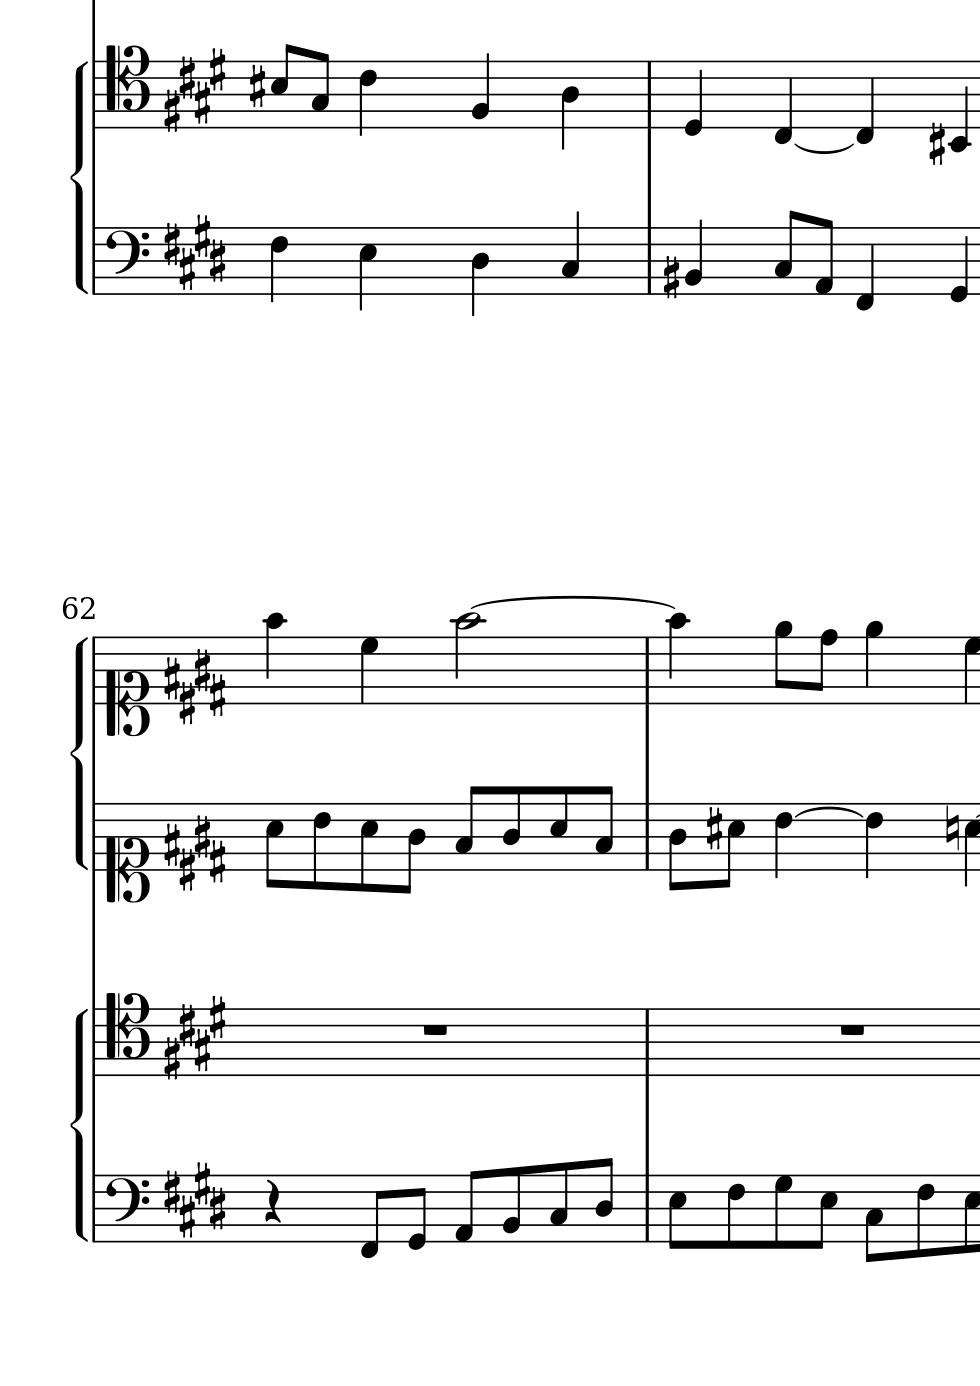2_10: (452, 609, 480, 706)
4_-1: (851, 58, 875, 146), (770, 58, 793, 146), (855, 225, 876, 312)
4_-2: (946, 59, 970, 152)
4_0: (682, 58, 706, 137), (946, 225, 969, 304)
4_10: (262, 612, 286, 706), (666, 612, 689, 705)
4_2: (470, 50, 492, 129), (684, 217, 704, 296)
4_3: (560, 209, 581, 294)
4_4: (559, 59, 581, 150), (469, 226, 490, 318)
4_5: (356, 226, 378, 314)
4_6: (267, 226, 290, 308), (863, 800, 886, 881), (356, 58, 379, 138), (772, 801, 794, 879)
4_7: (357, 634, 380, 705)
4_9: (863, 619, 883, 705)
6: (78, 594, 97, 622), (62, 594, 78, 621)
8_-1: (358, 1172, 386, 1259)
8_0: (406, 1173, 428, 1252)
8_1: (453, 1168, 480, 1245), (813, 215, 834, 297)
8_2: (500, 1165, 522, 1245)
8_3: (453, 784, 482, 873), (773, 208, 800, 295), (593, 784, 615, 872), (309, 49, 332, 129), (863, 1173, 883, 1264), (548, 1160, 570, 1245)
8_4: (399, 801, 427, 896), (665, 800, 688, 893), (500, 784, 523, 873), (595, 1156, 617, 1245)
8_5: (718, 801, 746, 889), (268, 42, 295, 130), (811, 1173, 838, 1251), (357, 801, 379, 894), (547, 784, 570, 872), (263, 800, 284, 890), (666, 1172, 688, 1253), (962, 1173, 980, 1255)
8_6: (912, 1173, 934, 1260), (310, 801, 331, 892), (723, 1173, 743, 1253)
8_7: (771, 1173, 794, 1251)
8_8: (808, 628, 838, 705)
8_9: (773, 620, 793, 705)
Brace: (69, 635, 89, 872), (69, 1010, 89, 1244), (69, 57, 88, 298)
E_S: (159, 46, 229, 134), (159, 993, 229, 1081), (160, 208, 229, 293), (159, 644, 229, 726), (160, 810, 227, 893), (160, 1160, 228, 1240)
Fclef: (103, 1173, 148, 1244), (101, 224, 147, 274)
Natural: (942, 802, 961, 850)
Rests1: (836, 1020, 868, 1038), (419, 1020, 450, 1038)
Rests4: (261, 1177, 283, 1225)
Sharp: (660, 253, 681, 300), (703, 804, 723, 853), (247, 62, 266, 108), (927, 120, 945, 166)
Single_barline: (637, 802, 657, 871), (637, 1008, 657, 1077), (638, 637, 658, 704), (638, 1174, 657, 1242), (641, 62, 659, 128), (641, 227, 658, 295), (87, 60, 103, 129), (87, 803, 103, 872), (87, 1008, 103, 1076), (87, 638, 102, 704), (88, 228, 102, 295), (88, 1176, 102, 1243)
Slur: (795, 806, 862, 819), (792, 141, 854, 155)
Soprano_Cclef: (103, 799, 151, 903), (104, 633, 150, 736)
Tensor_Cclef: (102, 43, 148, 131), (103, 992, 150, 1077)
